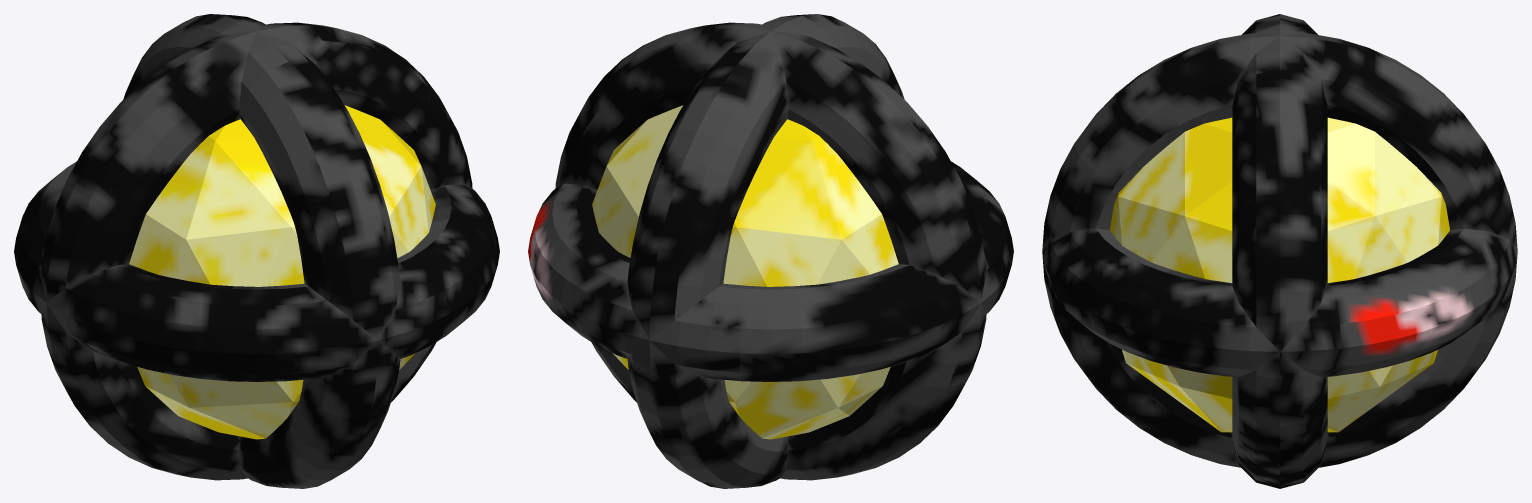
Rendered from core.glb.
3 views of the same model, side by side, from view 1: azimuth 30°, elevation 25°; view 2: azimuth 150°, elevation 25°; view 3: azimuth 270°, elevation 25° (orthographic). The views are drawn at different scales.
Parts seen in each view (by area): view 1: Core; view 2: Core; view 3: Core.
Boxes of the visible parts, bbox=[...] form: Core: bbox=[14, 14, 499, 488]; Core: bbox=[528, 14, 1013, 488]; Core: bbox=[1042, 14, 1517, 488].
Size of the model in its own units: 2.5 by 2.5 by 2.5.
Materials: 2 (2 with a texture image).
